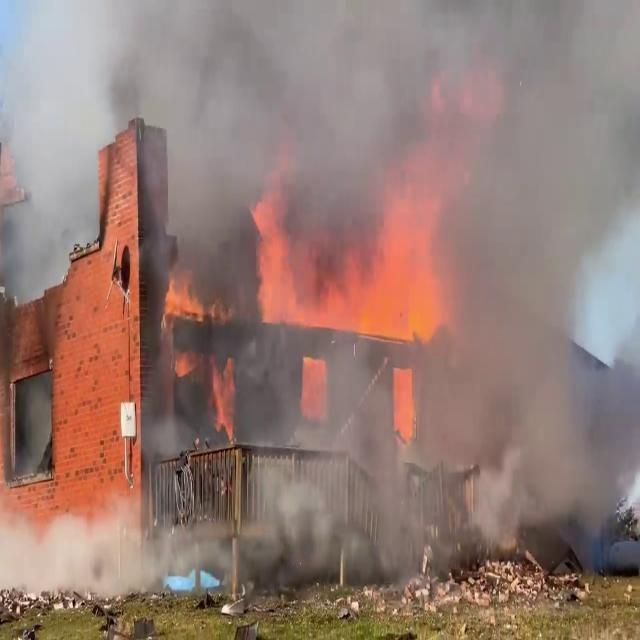Fire: (248, 176, 446, 336), (160, 263, 238, 442)
Smoke: (210, 1, 640, 576)
